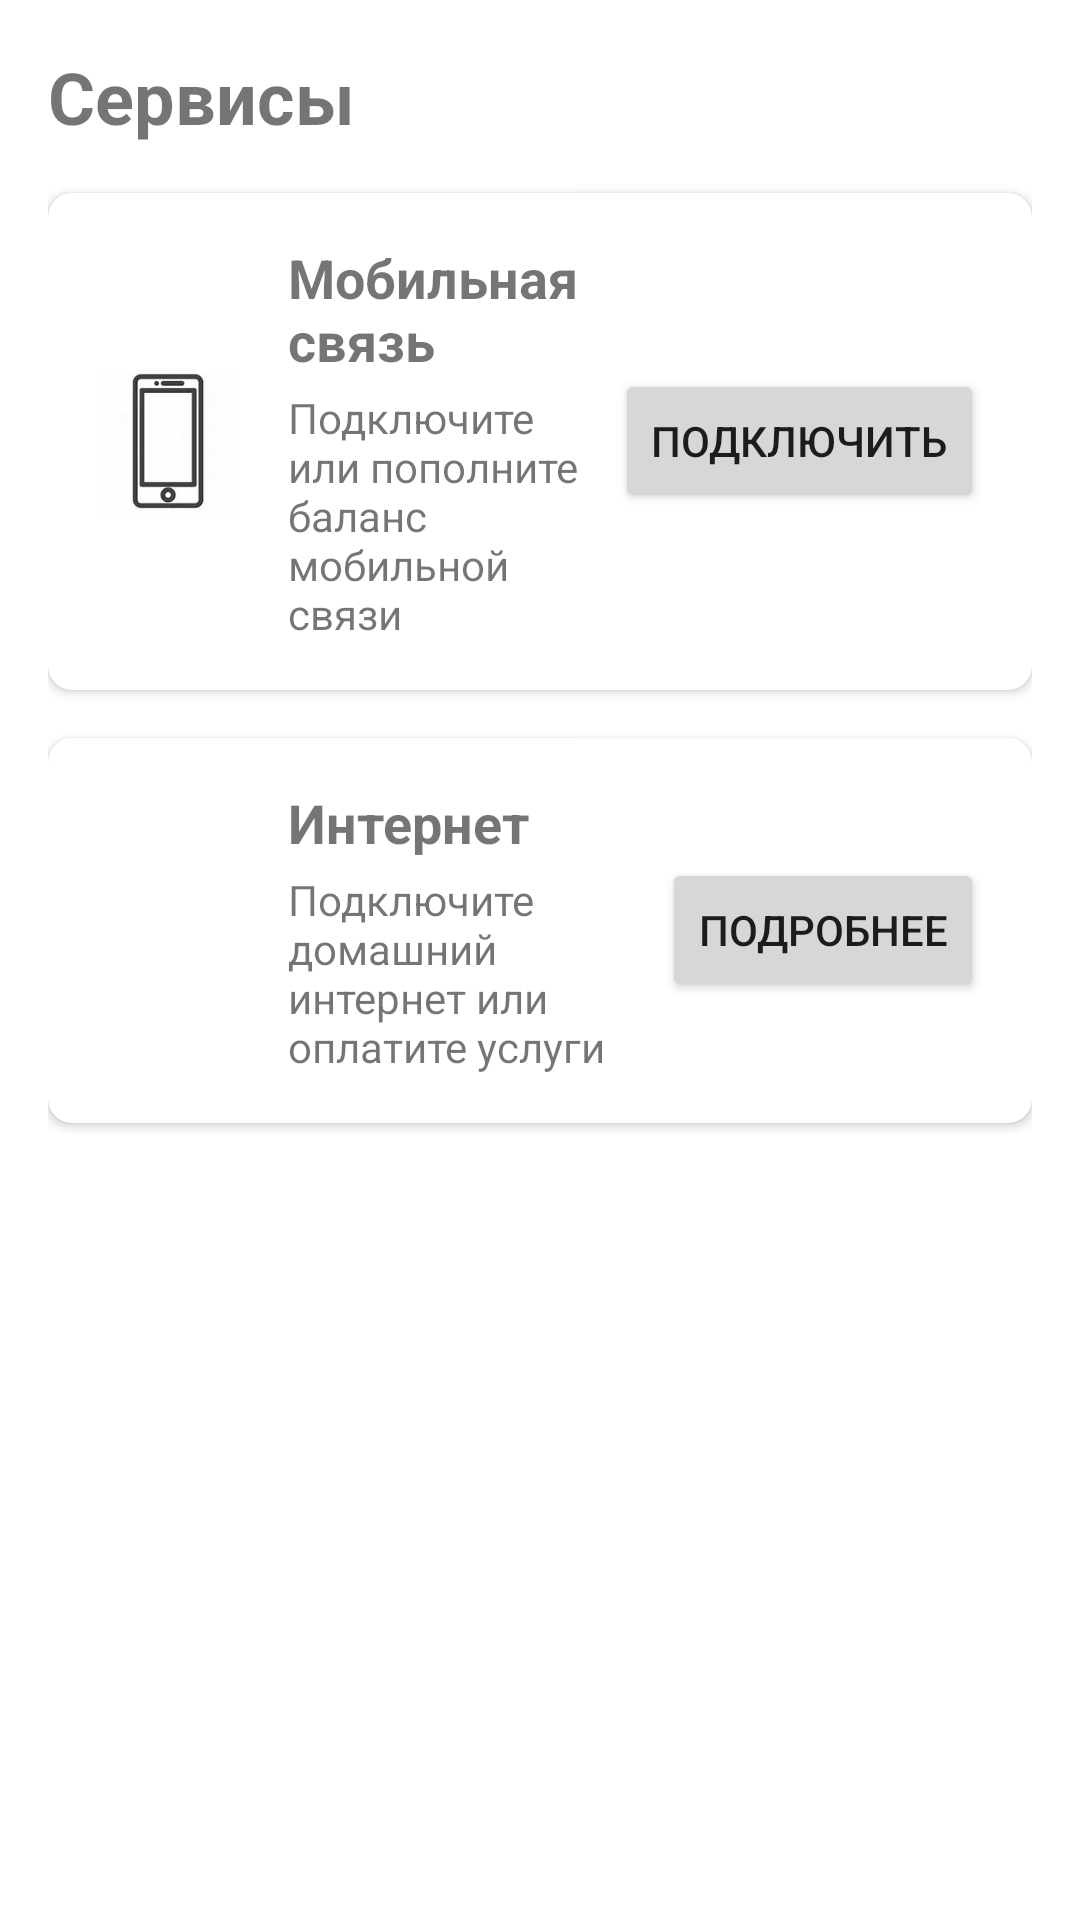

Named icons in this screenshot (1080 x 1920) and their bounding boxes, bbox(x1, y1, x2, y2):
service mobile: bbox(132, 374, 204, 509)
